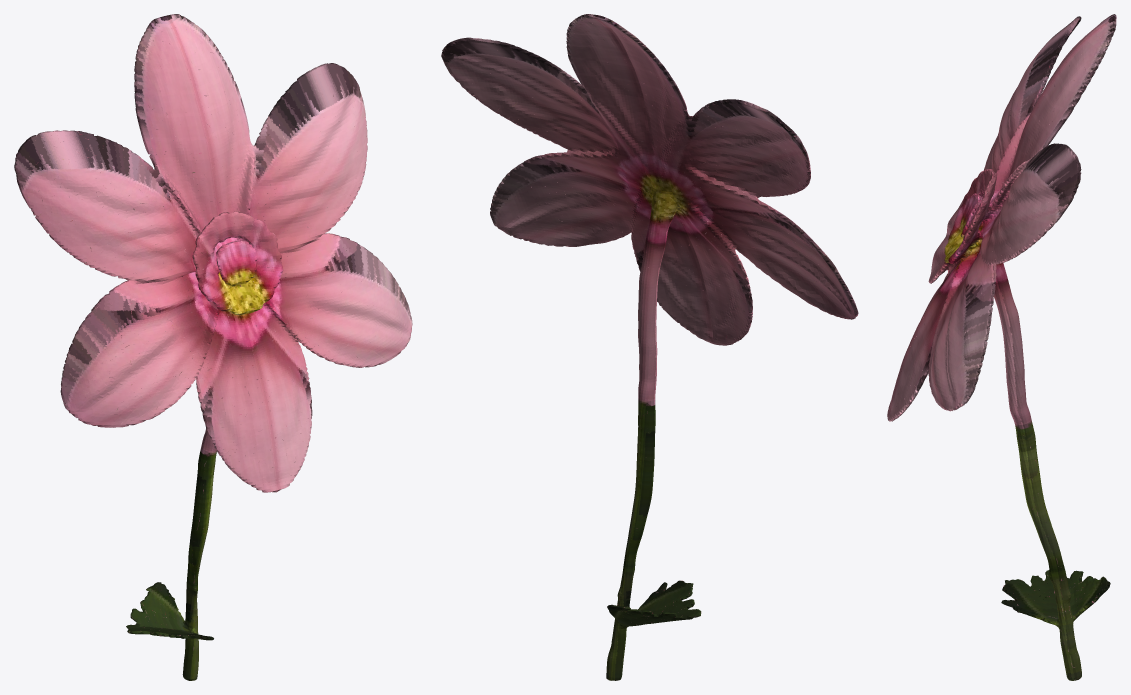
File: flower.glb
3 renders of one model, left to right at view 1: azimuth 30°, elevation 25°; view 2: azimuth 150°, elevation 25°; view 3: azimuth 270°, elevation 25°, orthographic. The views are drawn at different scales.
Visible parts, largest first — view 1: geometry_0; view 2: geometry_0; view 3: geometry_0.
Part boxes in pixels (x1,y1,x2,y2): geometry_0: (14,14,412,680); geometry_0: (441,14,858,680); geometry_0: (887,14,1116,680).
Bounding box in the file's own units: 0.561 × 1 × 0.3156.
Materials: 1 (1 with a texture image).
